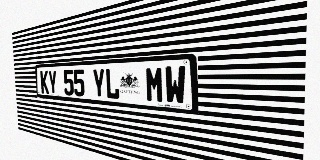5: (73, 69, 85, 97), (63, 70, 74, 96)
K: (40, 71, 49, 94)
L: (105, 68, 120, 100)
M: (145, 66, 164, 103)
W: (164, 65, 186, 105)
Y: (92, 68, 106, 98), (48, 70, 57, 95)
